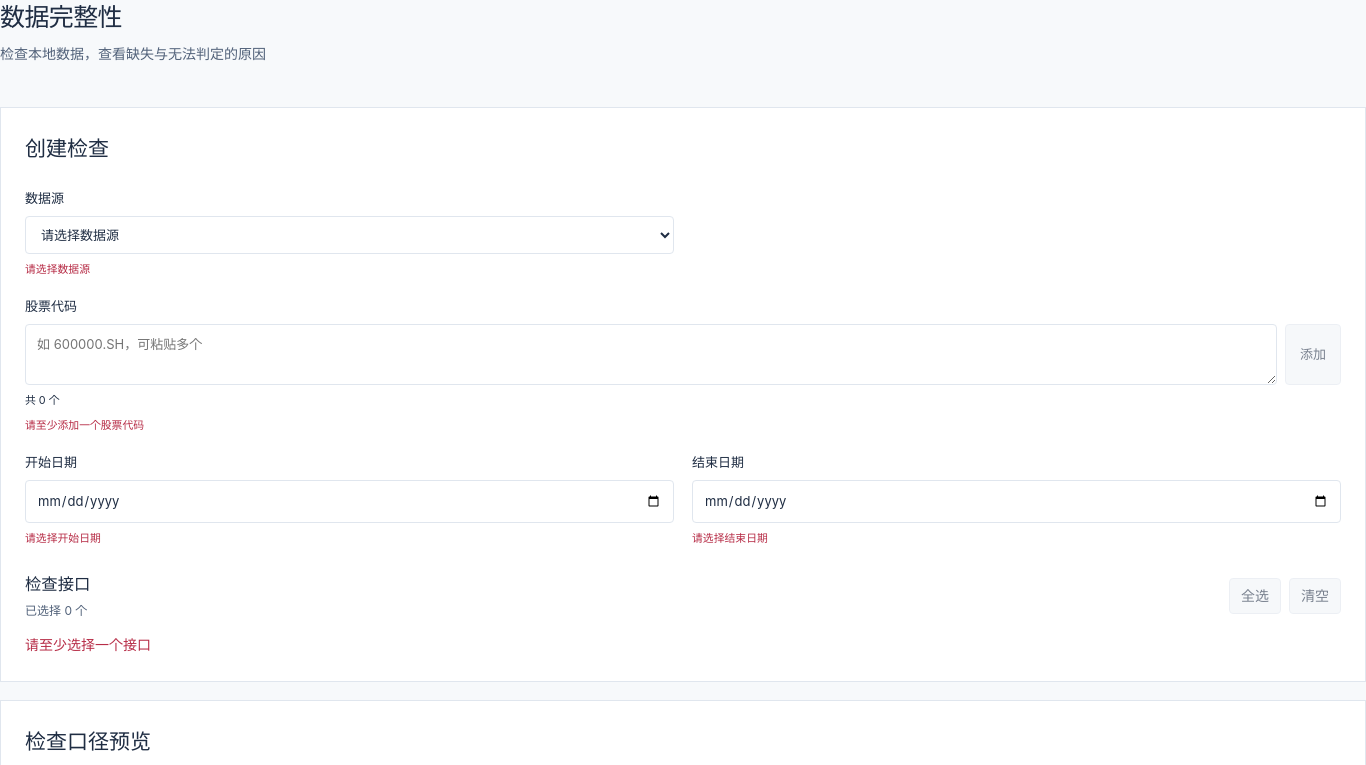
does not reselect cleared APIs when a late category response arrives
The width and height of the screenshot is (1366, 765).
Select "Tushare Pro" in the dropdown named "数据源" at (350, 235), box top-left (25, 216), bottom-right (674, 254)
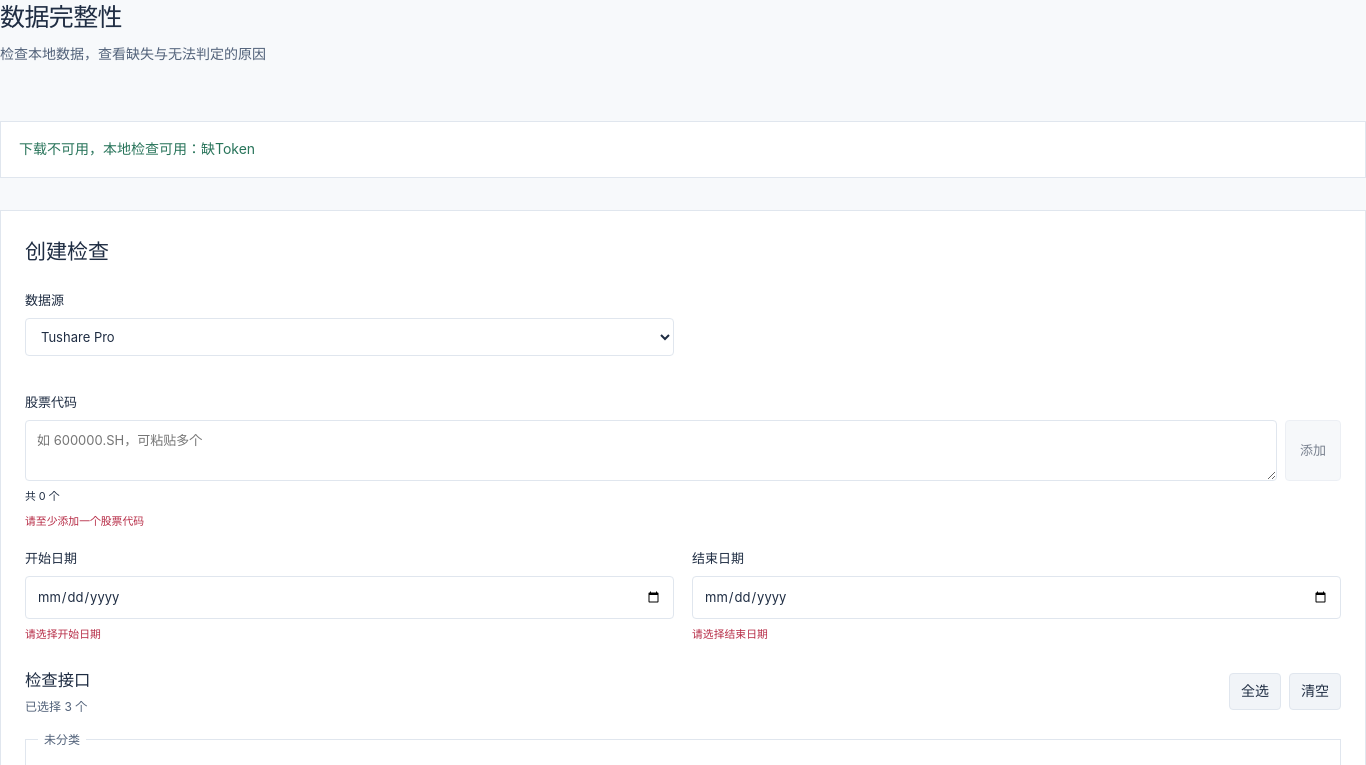
Click the button with aria-label "清空".
click(1315, 692)  # box top-left (1289, 673), bottom-right (1341, 710)
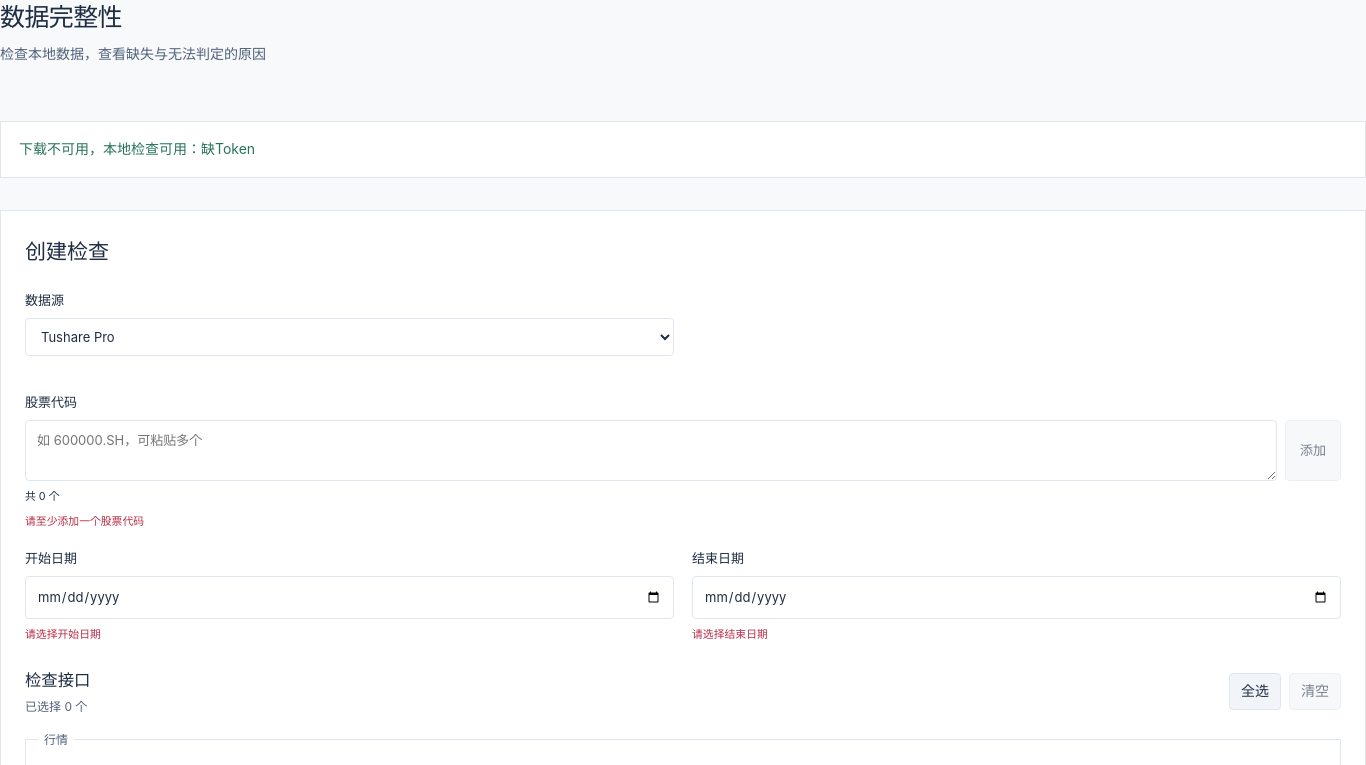
Check: the text "已选择 0 个" is shown, box top-left (25, 697), bottom-right (90, 716)
